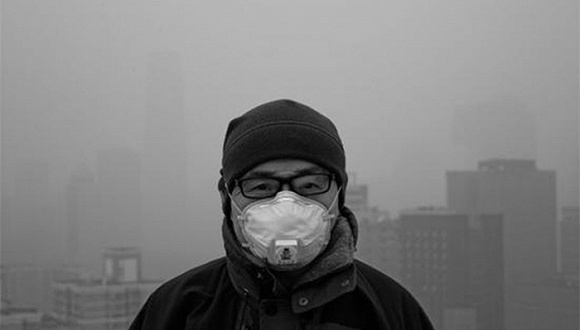face_mask: (234, 153, 337, 264)
